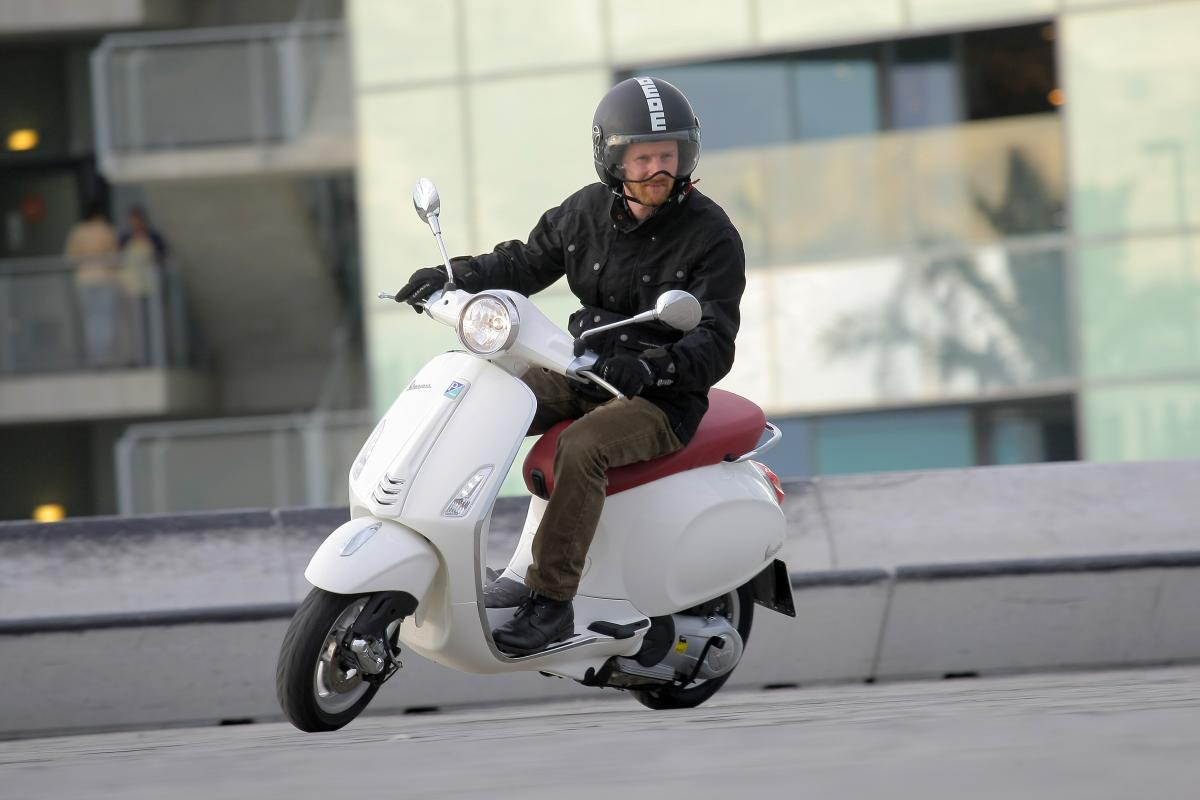helmet: (564, 57, 724, 217)
